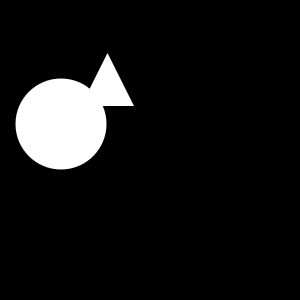rectangle: (16, 78, 106, 169)
triangle: (81, 53, 134, 106)
